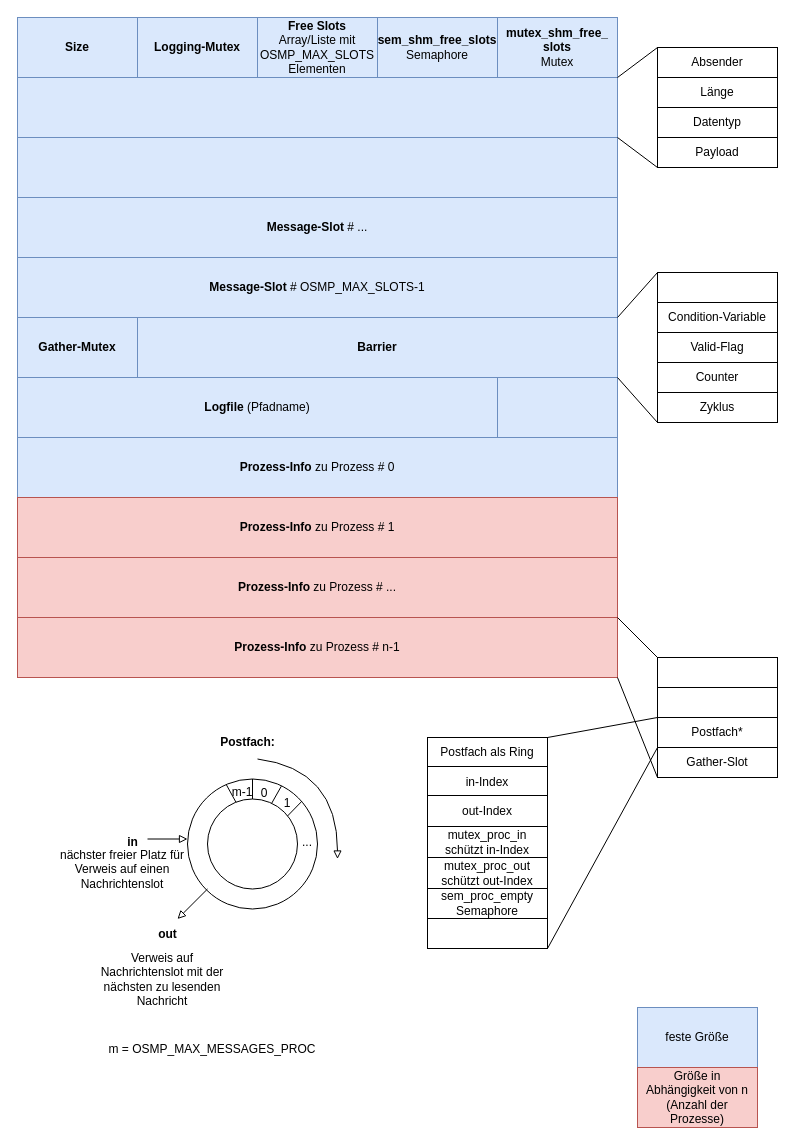
Image size: 795x1145. Some labels were removed from this diagram. Each missing label, with the centre of its shape:
"Log-Verbosität" goes at point (557, 407).
"Message-Slot # 0" goes at point (317, 107).
"Message-Slot # 1" goes at point (317, 167).
"Mutex" goes at point (717, 287).
"PID" goes at point (717, 702).
"Rank" goes at point (717, 672).
"sem_proc_full Semaphore" goes at point (487, 933).
